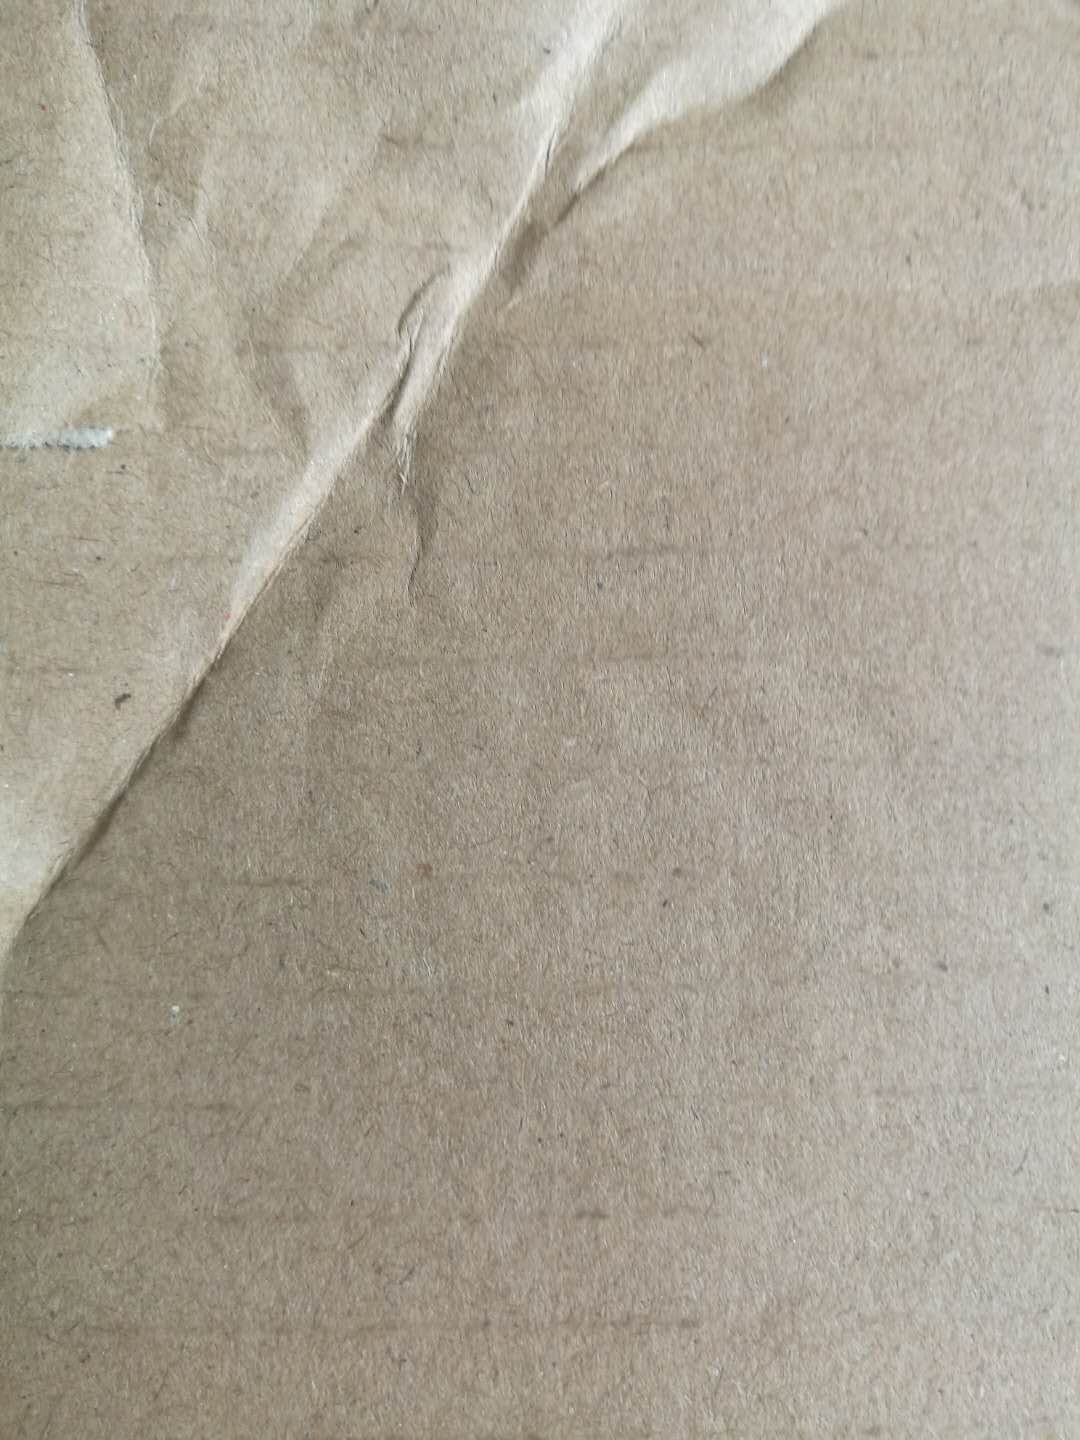defect: (6, 1, 894, 979)
